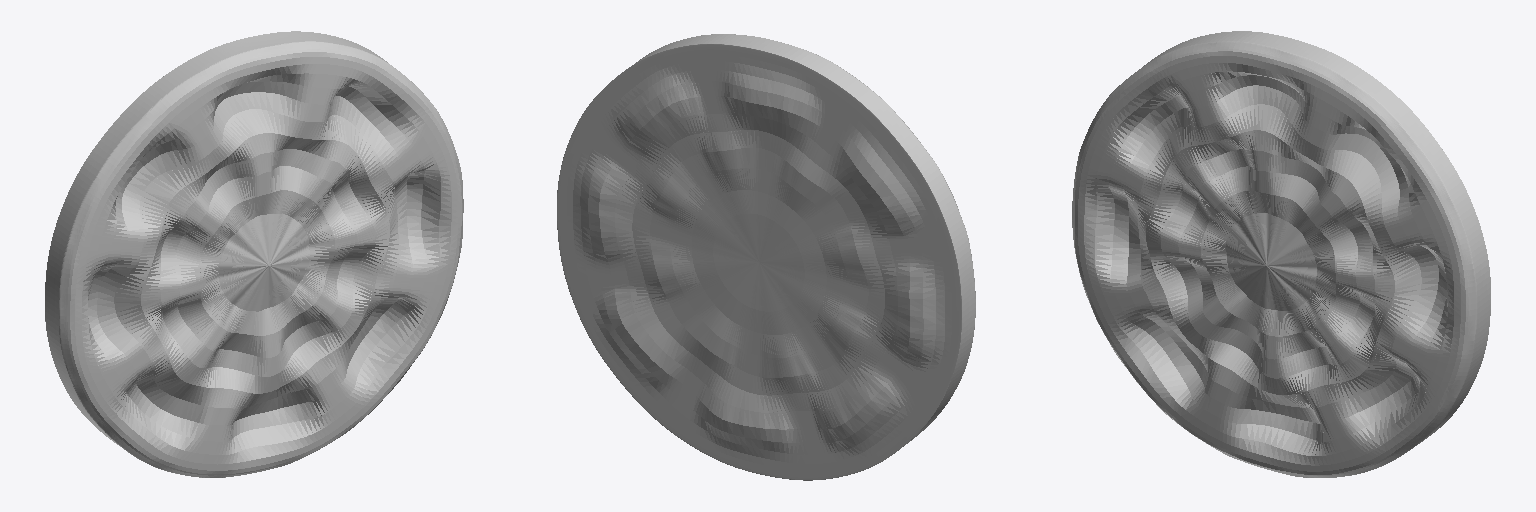
File: drain.OBJ
The picture shows the model from 3 angles: view 1: azimuth 30°, elevation 25°; view 2: azimuth 150°, elevation 25°; view 3: azimuth 330°, elevation 25°; orthographic projection.
Parts seen in each view (by area): view 1: Group196; view 2: Group196; view 3: Group196.
Part boxes in pixels (x1,y1,x2,y2): Group196: (45, 31, 463, 477); Group196: (557, 34, 975, 480); Group196: (1072, 31, 1490, 477).
Size of the model in its own units: 1.98 by 1.98 by 0.225.